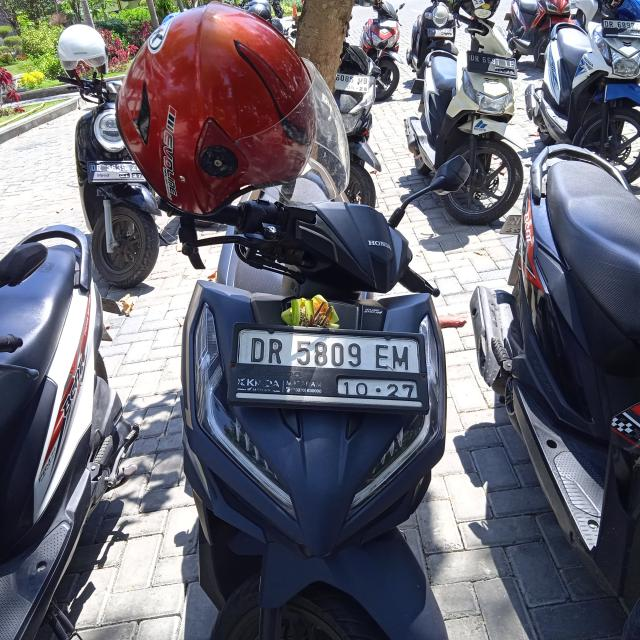plate: (233, 325, 429, 408), (467, 50, 518, 79), (87, 159, 146, 183), (602, 18, 640, 38), (337, 71, 370, 92)
